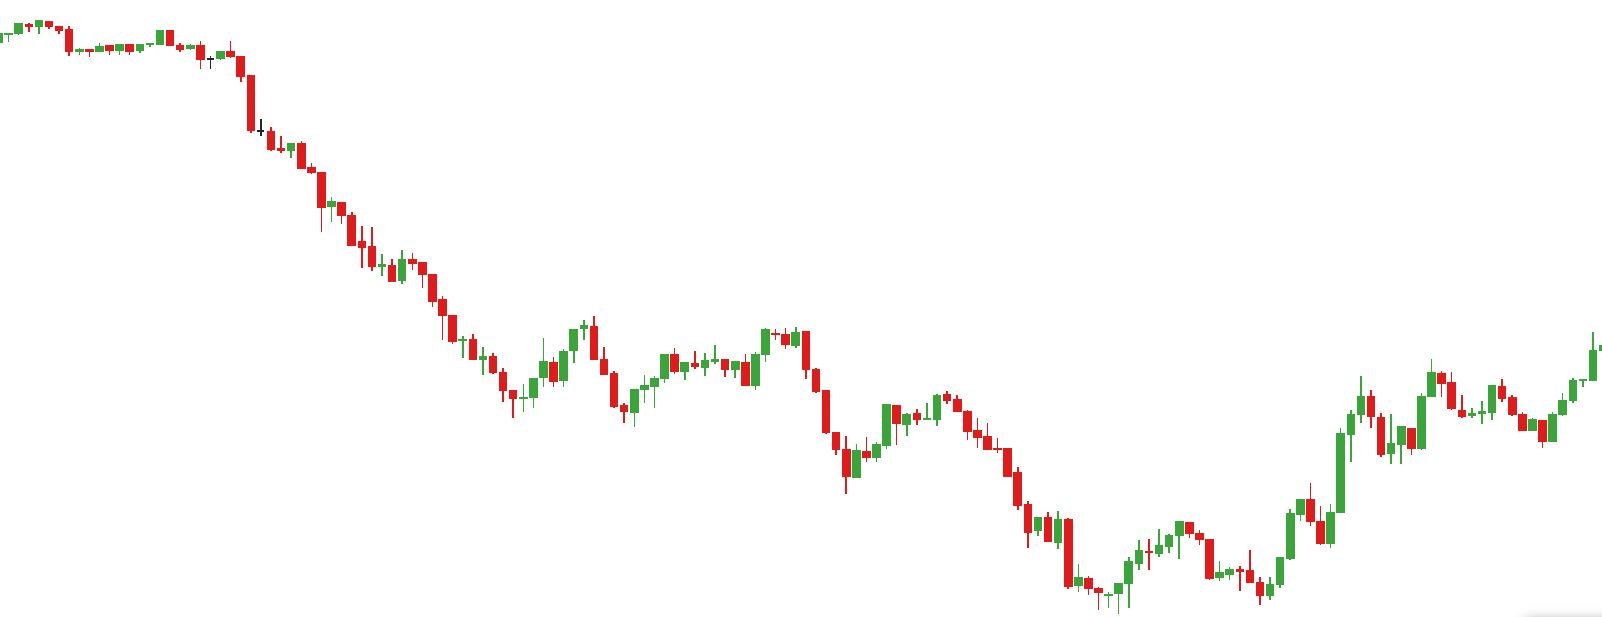buy: (506, 336, 640, 433)
